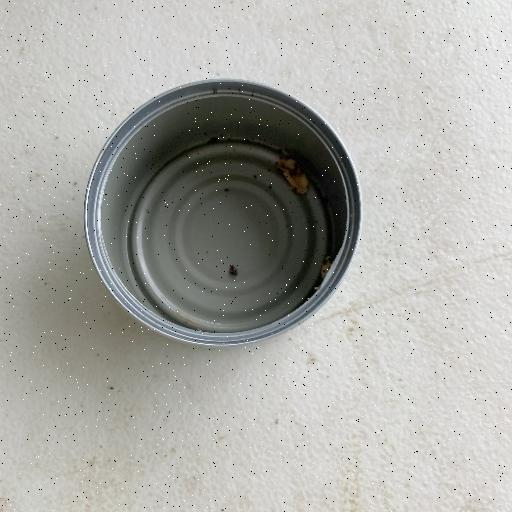Metal: (82, 75, 364, 349)
